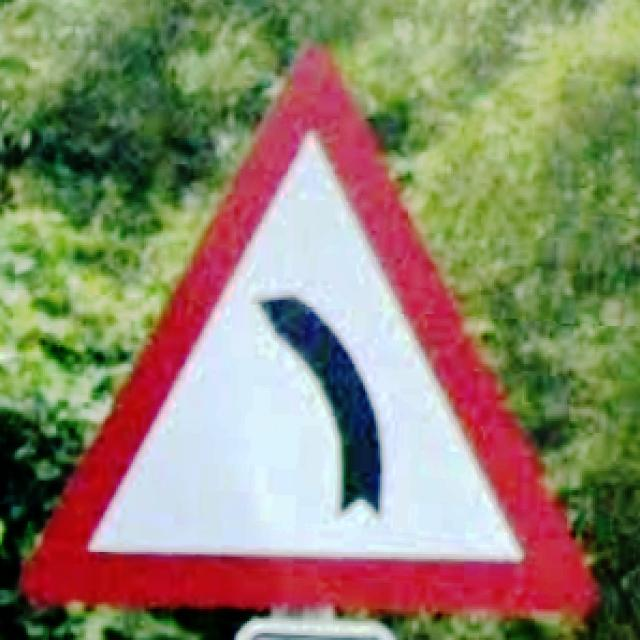leftbend: (24, 48, 599, 616)
